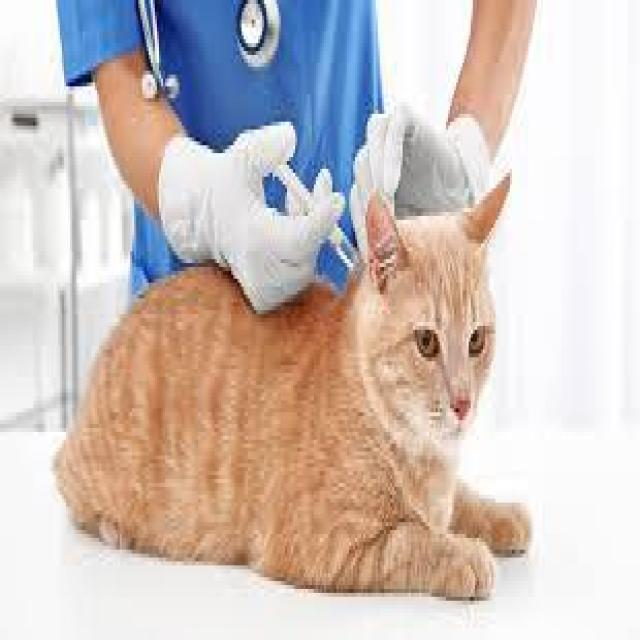Cat: (346, 170, 514, 464)
